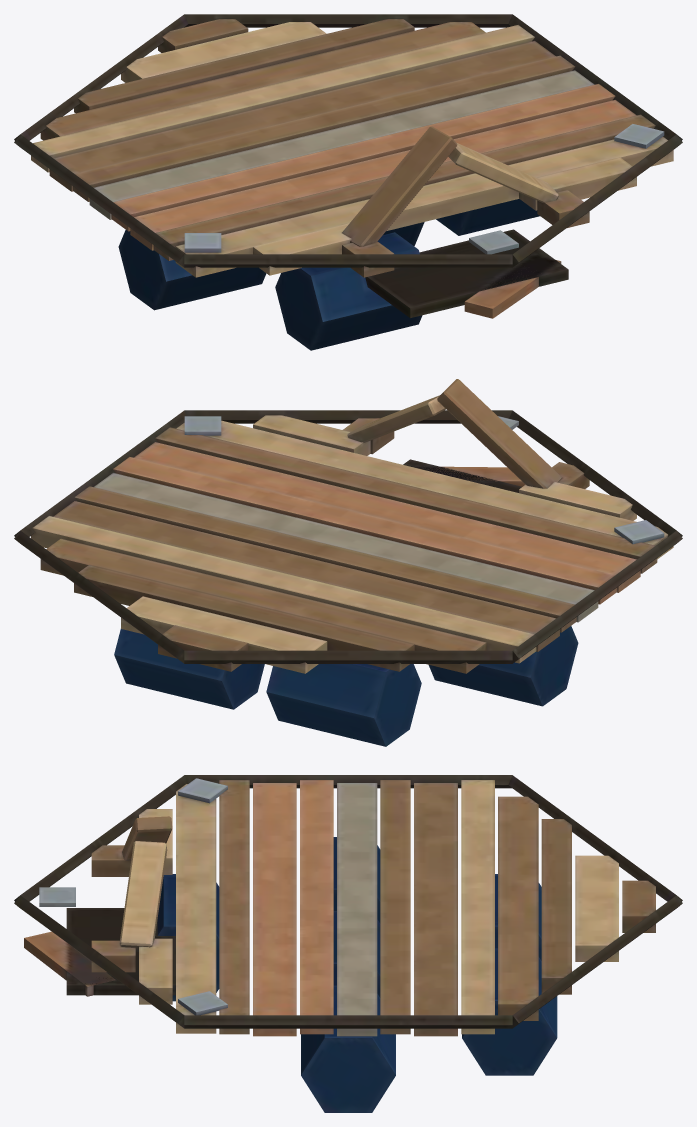
The model's file is raft-damaged-age10-lite.glb.
3 views of the same model, one above another, from view 1: azimuth 30°, elevation 25°; view 2: azimuth 150°, elevation 25°; view 3: azimuth 270°, elevation 25° (orthographic).
Visible parts, largest first — view 1: raft-damaged-age10-lite; view 2: raft-damaged-age10-lite; view 3: raft-damaged-age10-lite.
Part boxes in pixels (<box>): raft-damaged-age10-lite: <box>14,14,682,350</box>; raft-damaged-age10-lite: <box>14,379,682,746</box>; raft-damaged-age10-lite: <box>14,775,682,1112</box>.
Size of the model in its own units: 1.59 by 0.5784 by 1.83.
1 material, 1 textured.
